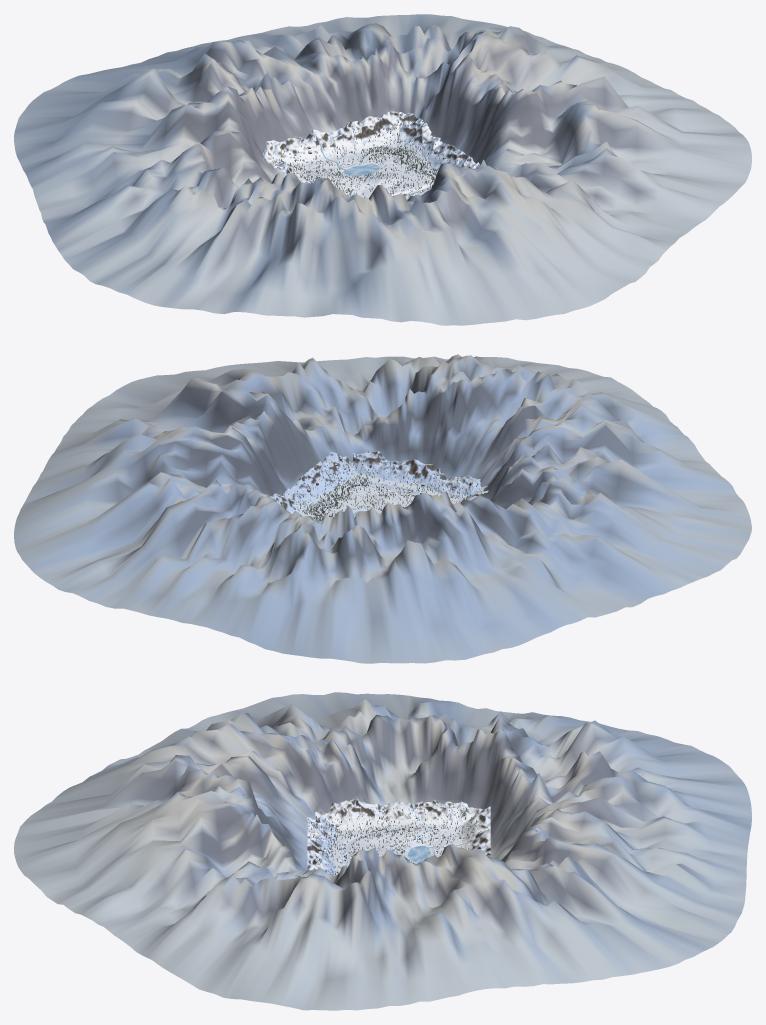
File: frostpeak_alpine.glb
The picture shows the model from 3 angles, top to bottom: view 1: azimuth 30°, elevation 25°; view 2: azimuth 150°, elevation 25°; view 3: azimuth 270°, elevation 25°; orthographic projection.
Parts seen in each view (by area): view 1: Scenery_Mountains, Terrain_Ground; view 2: Scenery_Mountains, Terrain_Ground; view 3: Scenery_Mountains, Terrain_Ground.
Boxes of the visible parts, <box> form: Scenery_Mountains: <box>14,14,751,325</box>; Terrain_Ground: <box>262,111,480,200</box>; Scenery_Mountains: <box>14,354,751,663</box>; Terrain_Ground: <box>270,451,488,521</box>; Scenery_Mountains: <box>14,692,751,1010</box>; Terrain_Ground: <box>307,799,490,875</box>.
Size of what is drawn, in the model's own units: 4907 by 613 by 4827.
9 materials, 4 textured.
